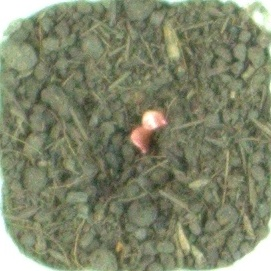pepper seed: (52, 48, 207, 203), (56, 43, 225, 175)
